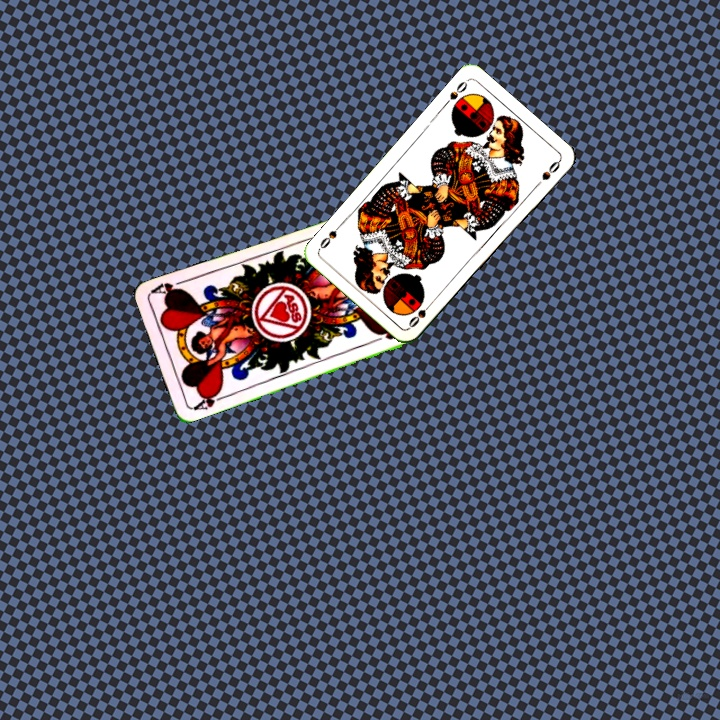HA: (188, 386, 228, 413)
SO: (404, 296, 436, 330), (439, 76, 470, 109)
